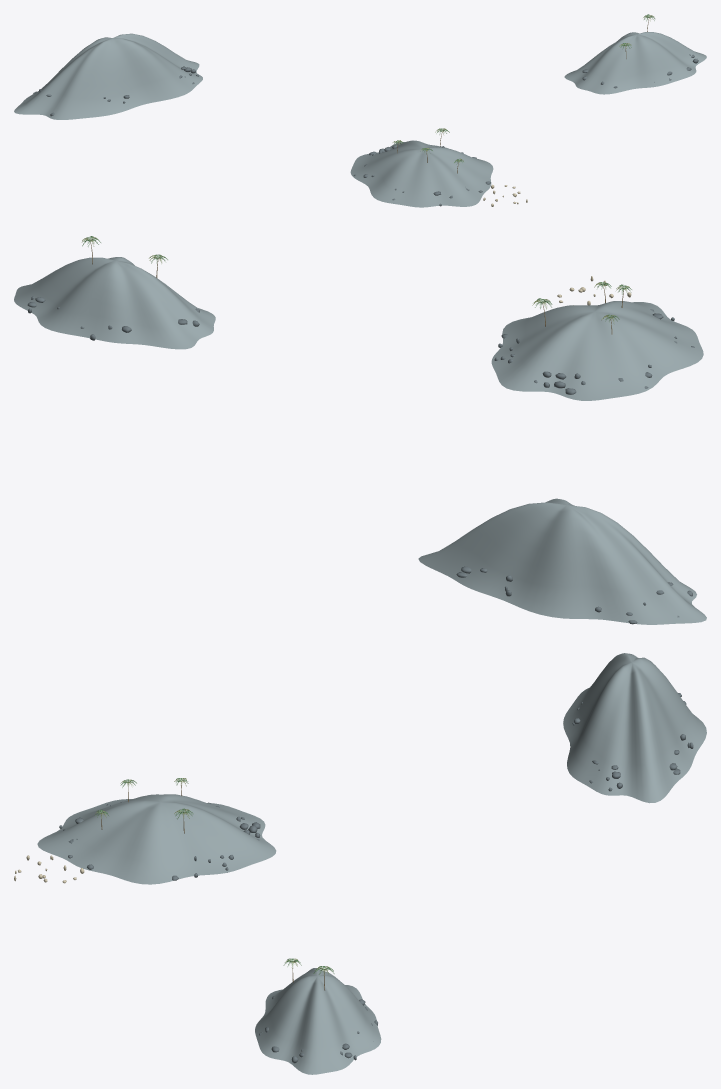
The model's file is region_pacific_ocean.glb.
3 views of the same model, one above another, from view 1: azimuth 30°, elevation 25°; view 2: azimuth 150°, elevation 25°; view 3: azimuth 270°, elevation 25° (orthographic). The views are drawn at different scales.
Visible parts, largest first — view 1: Stone, BasaltDark; view 2: Stone, BasaltDark; view 3: Stone, BasaltDark.
Part boxes in pixels (x1=…): Stone: x1=14, y1=32, x2=706, y2=207; BasaltDark: x1=24, y1=54, x2=698, y2=206; Stone: x1=14, y1=257, x2=706, y2=624; BasaltDark: x1=27, y1=296, x2=694, y2=624; Stone: x1=37, y1=653, x2=706, y2=1074; BasaltDark: x1=59, y1=693, x2=693, y2=1063.
Bounding box in the file's own units: 394 × 36.54 × 286.
